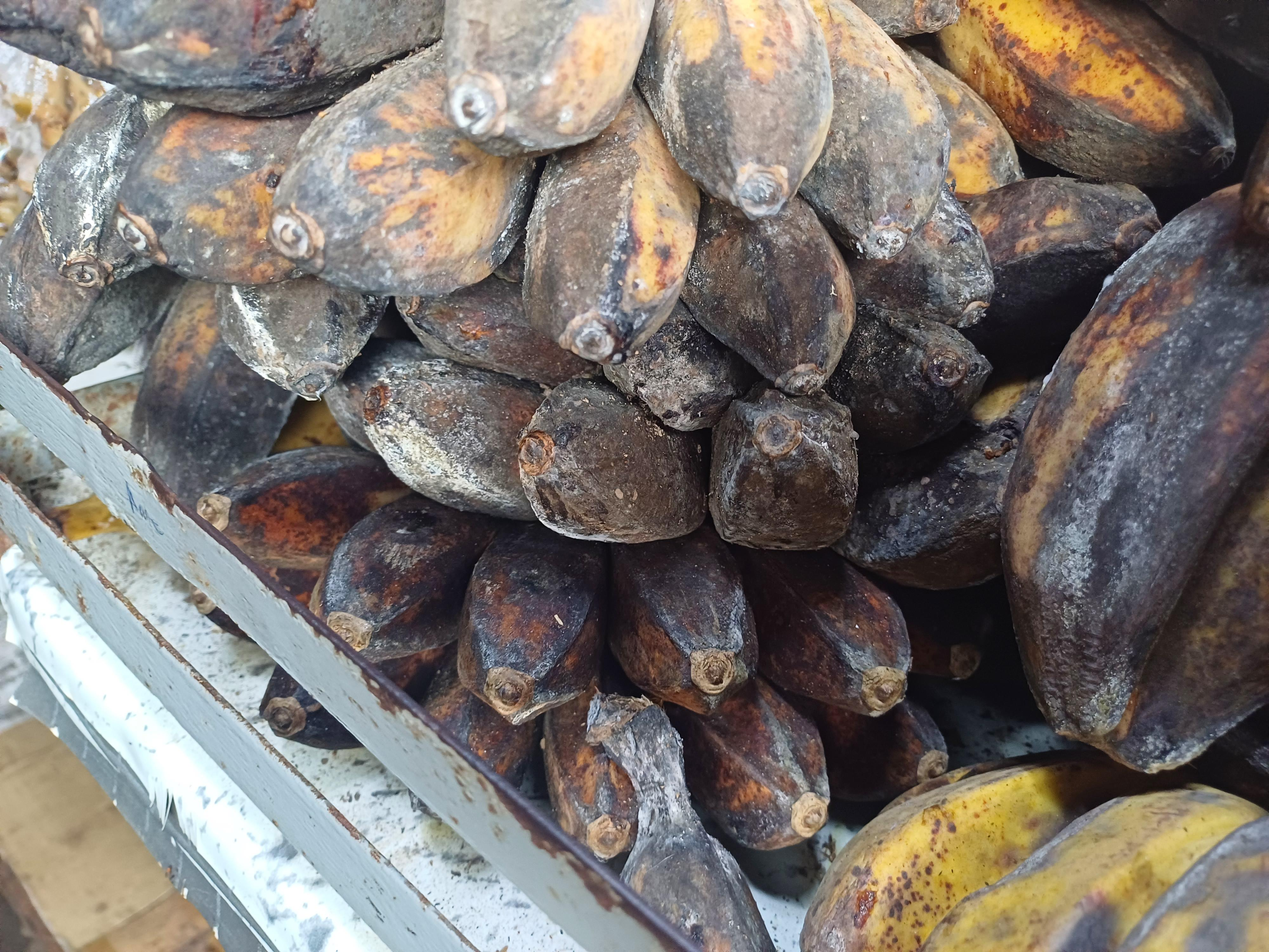overripe: (72, 0, 992, 392), (321, 179, 1163, 589), (198, 447, 990, 859), (1002, 128, 1269, 772), (0, 88, 387, 507), (895, 0, 1269, 200)
ripe: (800, 752, 1269, 952)
